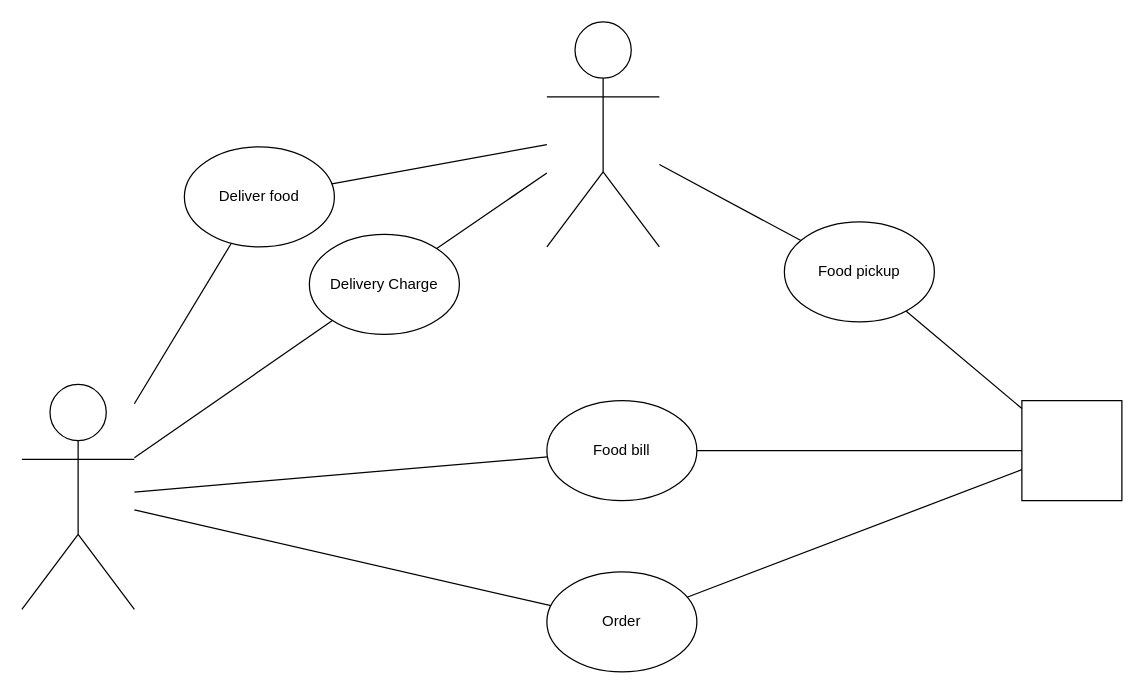
Some shapes in this 1144 by 694 pixel diagram are drawn without their labels. Each missing label, with the box of its shape:
Driver: (546, 21, 659, 247)
Person Ordering: (21, 383, 134, 609)
Restaurant: (1021, 399, 1122, 501)
